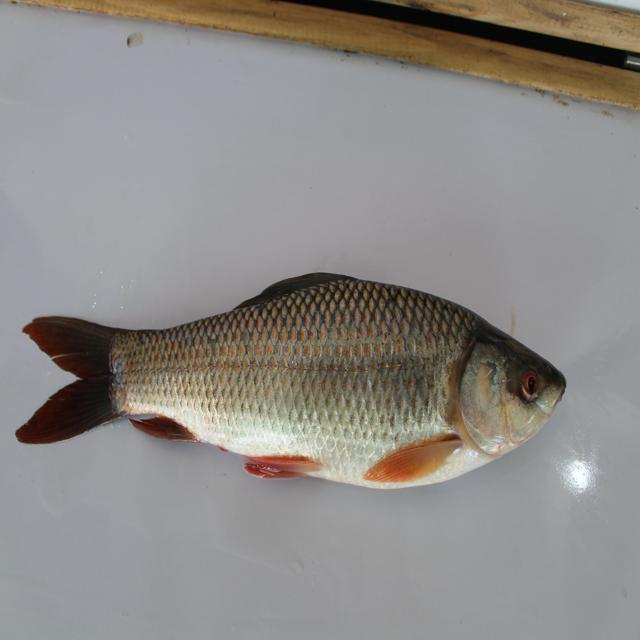Rohu: (9, 285, 583, 494)
